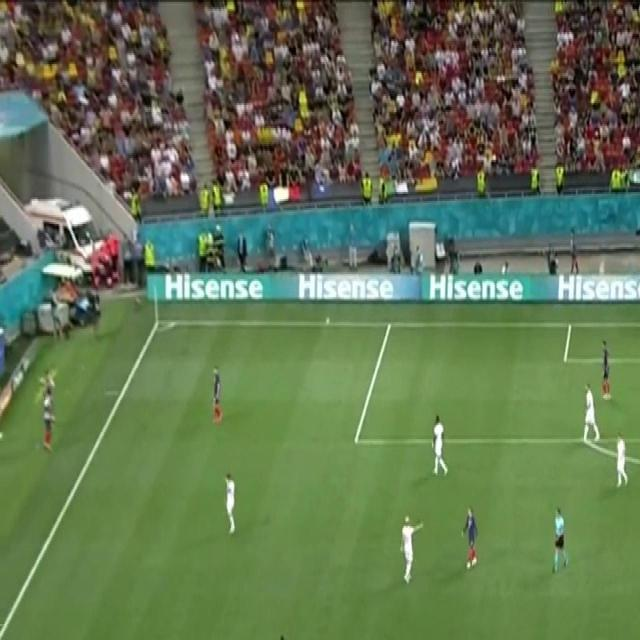player-white: (400, 514, 424, 586), (551, 506, 571, 574), (431, 413, 449, 479), (582, 382, 601, 443), (462, 508, 478, 572), (42, 388, 57, 452), (222, 472, 237, 536), (615, 430, 628, 490), (600, 338, 612, 402), (211, 364, 223, 424), (271, 633, 291, 640)
